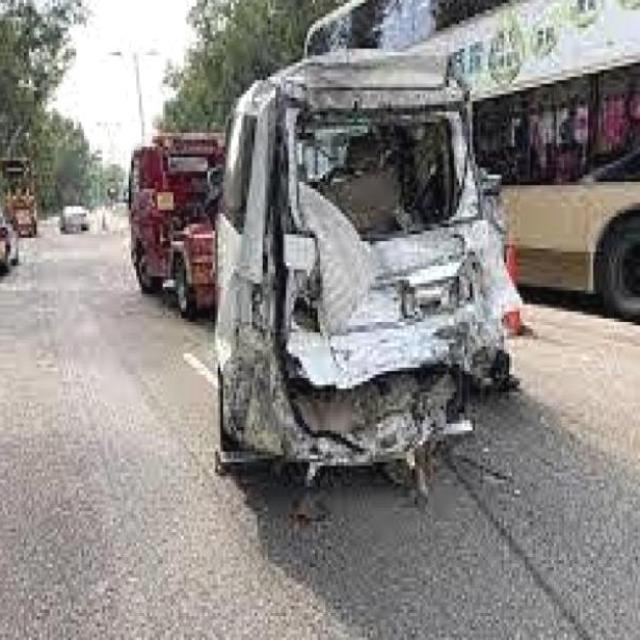accident: (195, 68, 551, 492)
